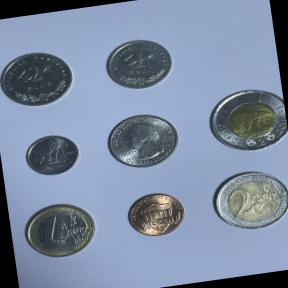1 Euro: (16, 195, 103, 265)
2 Euro: (201, 159, 288, 237)
Canda-10cent-: (18, 128, 86, 184)
Canda-2Dollar-: (197, 81, 288, 160)
Croatia-2Kune-: (0, 43, 80, 113)
US-1cent-: (120, 185, 192, 244)
US-25cent-: (98, 105, 186, 176)
